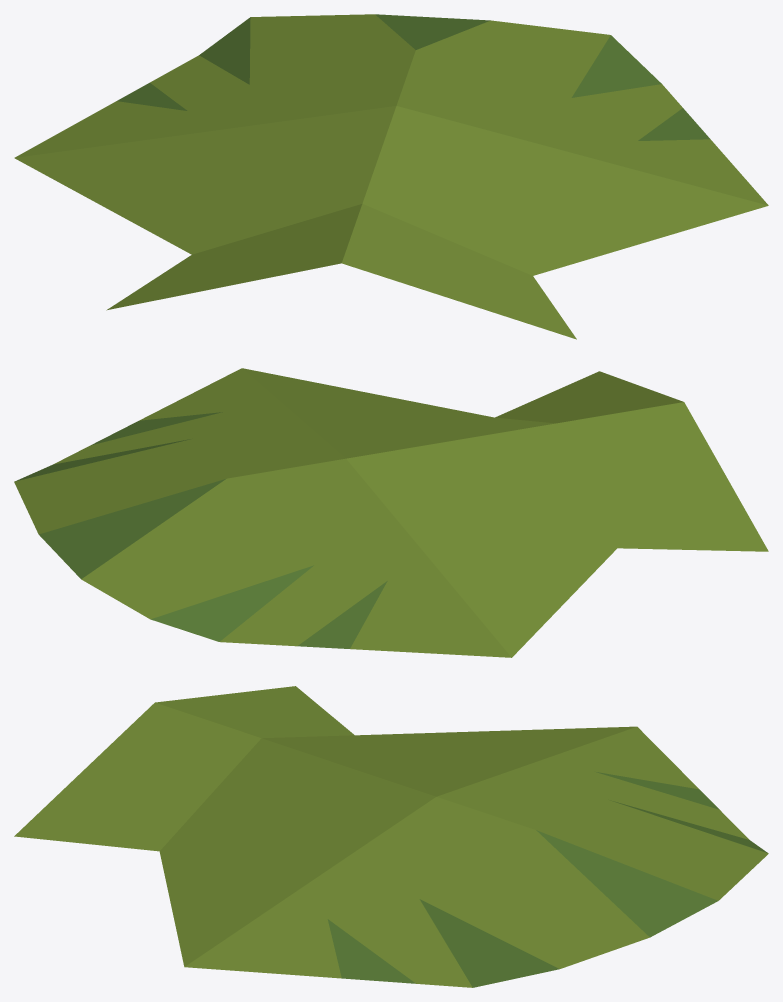
File: shell01.fbx
3 views of the same model, one above another, from view 1: azimuth 30°, elevation 25°; view 2: azimuth 150°, elevation 25°; view 3: azimuth 270°, elevation 25° (orthographic). The views are drawn at different scales.
Parts seen in each view (by area): view 1: Mesh_Shell01; view 2: Mesh_Shell01; view 3: Mesh_Shell01.
Part boxes in pixels (x1=…): Mesh_Shell01: x1=14, y1=14, x2=768, y2=339; Mesh_Shell01: x1=14, y1=368, x2=768, y2=657; Mesh_Shell01: x1=14, y1=686, x2=768, y2=987.
Size of the model in its own units: 1.14 by 1.21 by 0.1039.
